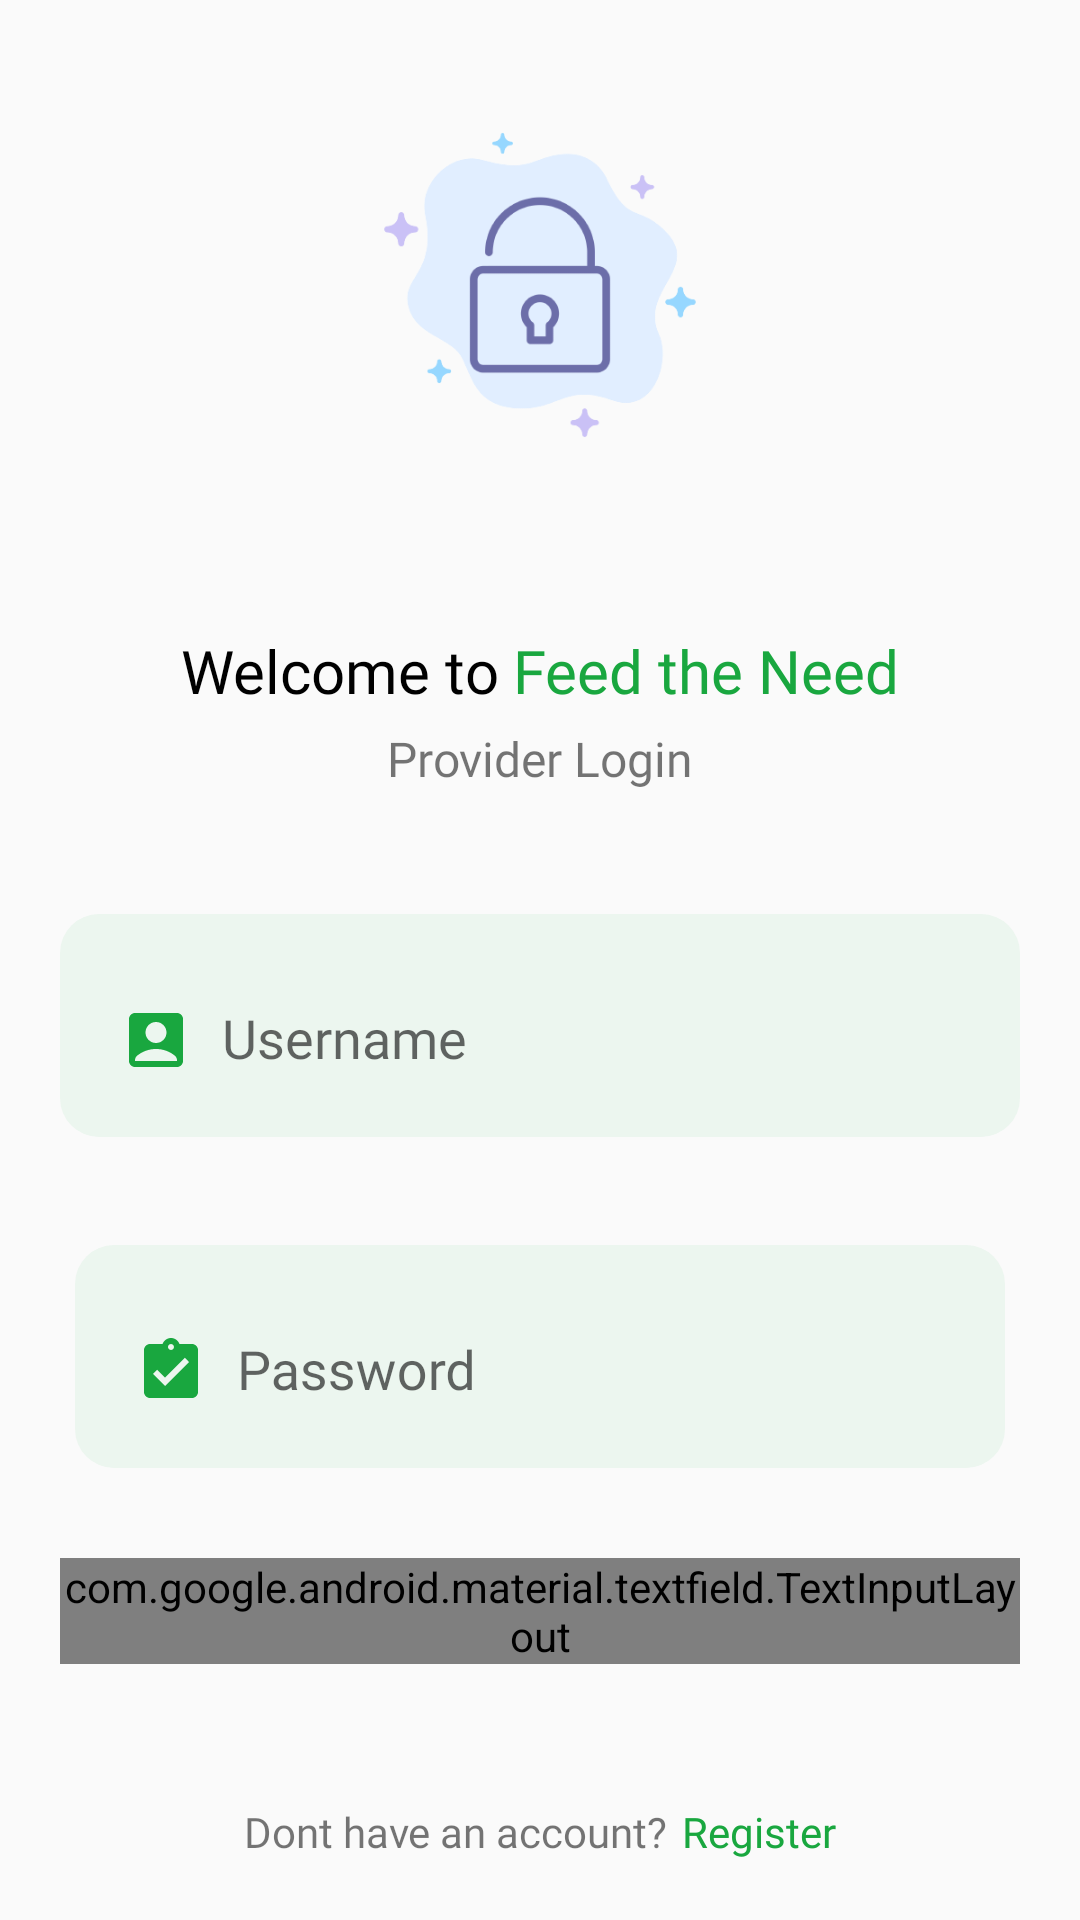

Icons on this 1080*1920 Android screen, each with the point to tap as point (x, y):
login: point (540, 285)
